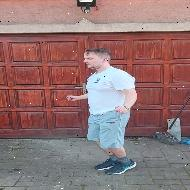jumping_jacks: (48, 46, 145, 167)
